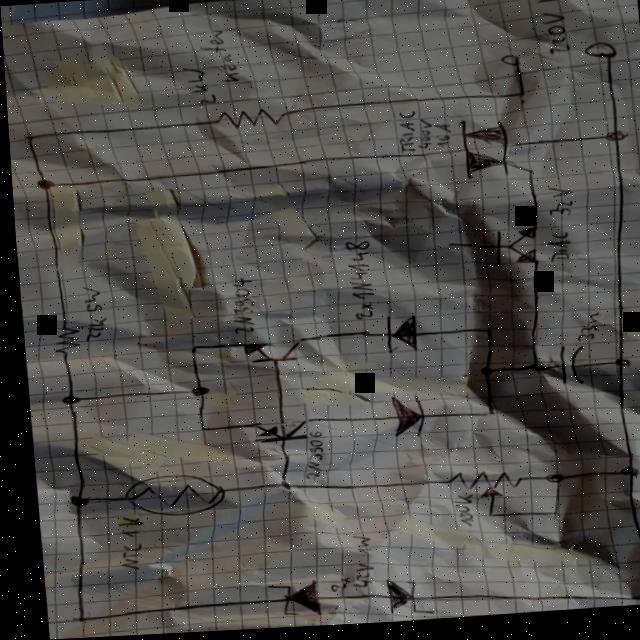capacitor: (544, 348, 581, 394)
diode: (254, 581, 315, 623), (372, 579, 426, 622), (381, 397, 420, 443), (373, 316, 413, 360)
junction: (600, 136, 623, 149), (60, 495, 80, 509), (30, 179, 51, 191), (536, 478, 556, 490), (183, 388, 203, 399), (612, 472, 630, 484), (54, 395, 73, 406), (605, 364, 623, 374), (471, 372, 487, 382), (627, 600, 640, 611), (540, 514, 552, 525), (522, 369, 535, 378), (475, 332, 488, 341), (474, 415, 487, 424), (181, 346, 194, 354), (520, 172, 531, 181), (64, 616, 76, 624), (270, 485, 282, 493), (190, 427, 202, 435), (477, 516, 489, 523), (20, 134, 32, 141), (512, 96, 522, 103)
resistor: (113, 472, 218, 521), (436, 472, 517, 505), (209, 108, 284, 134), (43, 327, 76, 357)
terminal: (579, 47, 616, 69), (496, 60, 518, 74)
text: (195, 31, 239, 88), (337, 242, 370, 305), (222, 279, 252, 337), (178, 67, 214, 109), (535, 17, 567, 63), (291, 435, 319, 483), (539, 227, 566, 270), (539, 192, 572, 226), (391, 113, 414, 158), (567, 317, 597, 350), (443, 498, 468, 536), (72, 284, 100, 315), (111, 543, 139, 572), (74, 317, 104, 344), (339, 565, 366, 592), (106, 516, 135, 540), (410, 122, 431, 155), (341, 536, 364, 559), (342, 306, 369, 323), (430, 128, 449, 152), (531, 0, 563, 12), (320, 579, 340, 596)
transistor: (233, 340, 301, 369), (243, 421, 302, 447)
